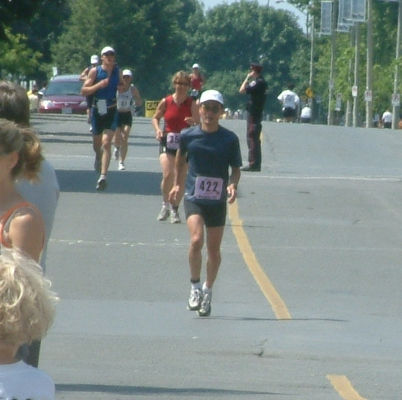person: (170, 89, 243, 318)
